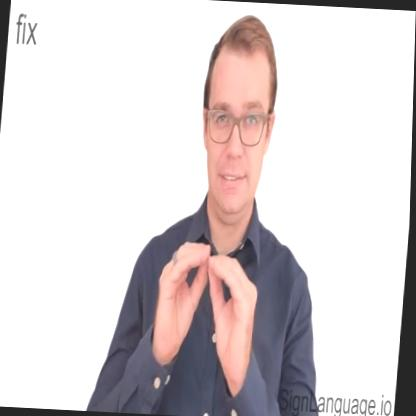Fix: (144, 221, 278, 398)
